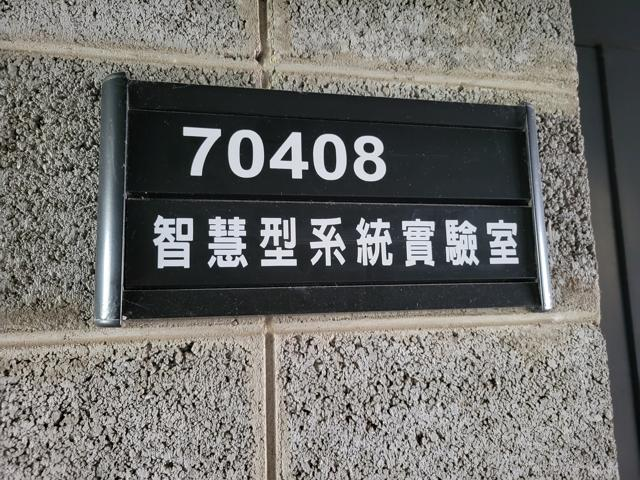doorplate: (86, 60, 563, 336)
